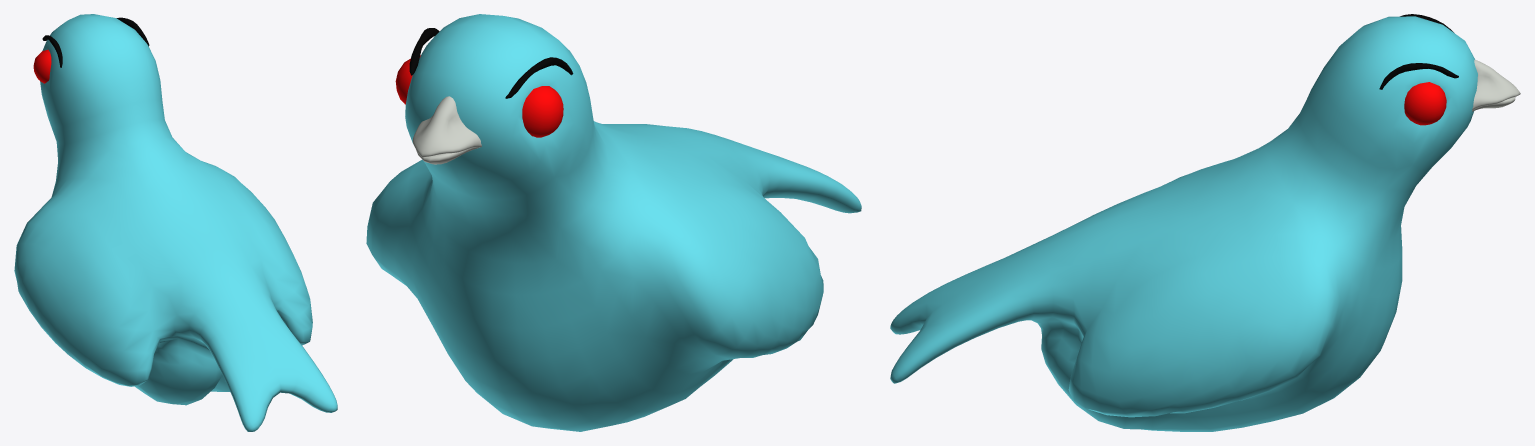
Rendered from SHITHAWK_IDLE.FBX.
3 renders of one model, left to right at view 1: azimuth 30°, elevation 25°; view 2: azimuth 150°, elevation 25°; view 3: azimuth 270°, elevation 25°, orthographic. The views are drawn at different scales.
Parts seen in each view (by area): view 1: SHITHAWK_IDLE; view 2: SHITHAWK_IDLE; view 3: SHITHAWK_IDLE.
Part boxes in pixels (box(x1,y1,x2,y2)): SHITHAWK_IDLE: box(14, 14, 337, 431); SHITHAWK_IDLE: box(366, 14, 861, 431); SHITHAWK_IDLE: box(890, 14, 1520, 431).
Size of the model in its own units: 1.13 by 1.33 by 1.93.
